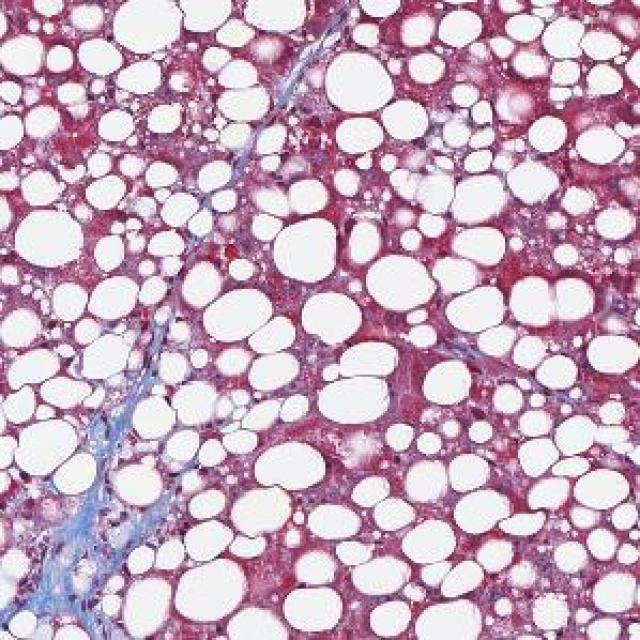fibrosis: (34, 449, 178, 616)
